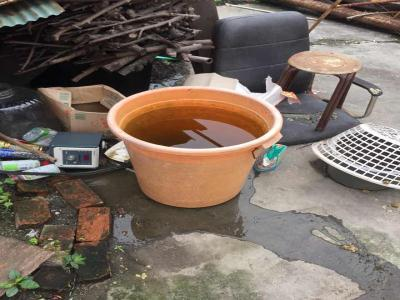bottle: (10, 162, 59, 181), (1, 158, 40, 171)
box: (37, 83, 126, 131)
bucket: (107, 83, 284, 213)
